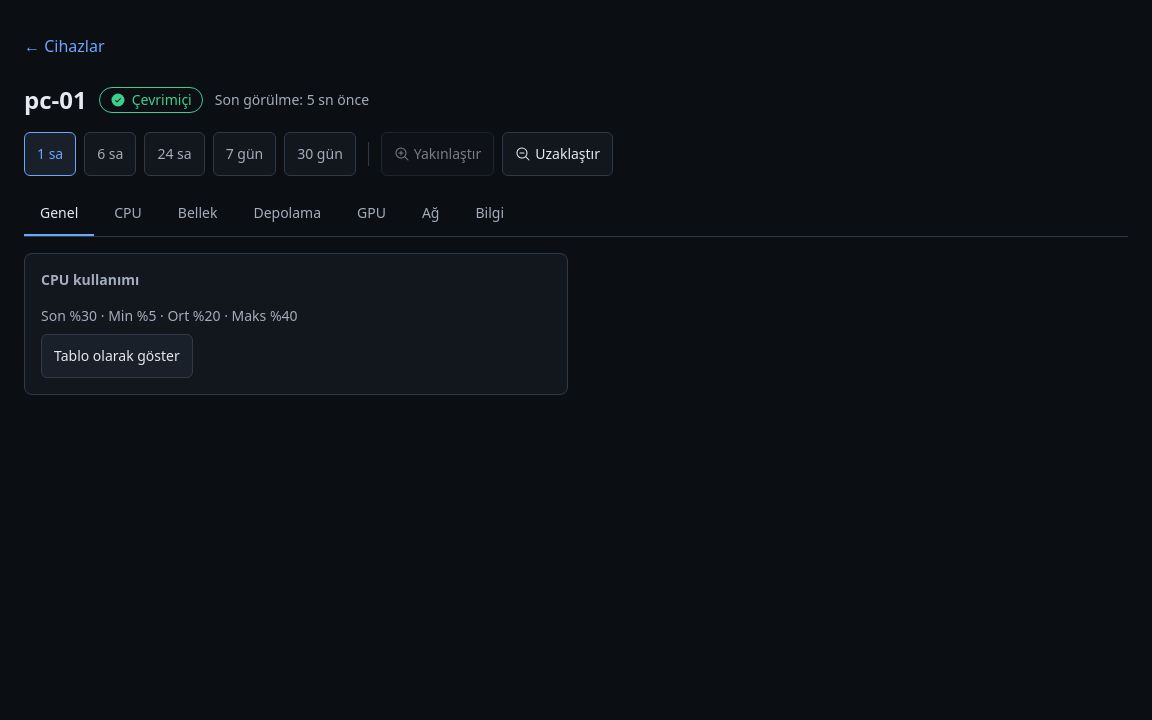
sekmeler ve metrik kesfi › Depolama: her disk icin grafik; Ag: adaptor adi device_info'dan (Wi-Fi), rx/tx ayri
This screenshot has width=1152, height=720.
Expected: the element showing "Genel CPU Bellek Depolama GPU Ağ Bilgi" is shown, 24,192 -> 1128,237
What coordinates should you click on to do the following:
click the tab "Depolama"
I would click on:
 (287, 214)
Its box is 237,192 -> 337,236.
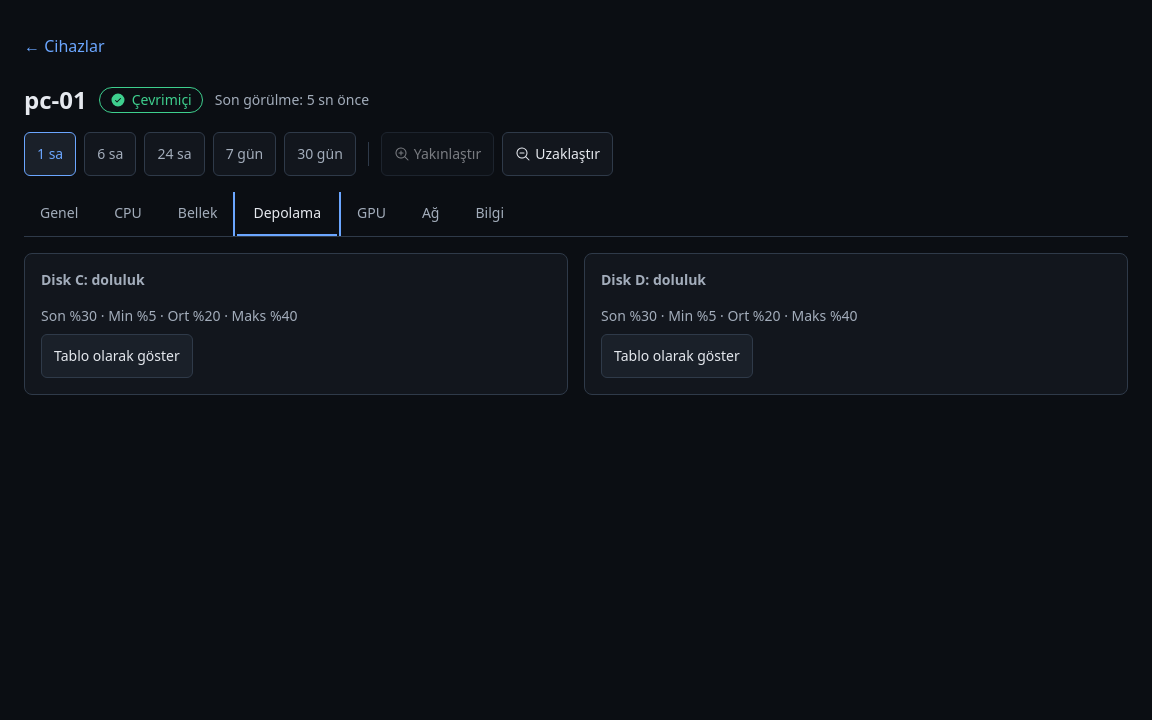
What coordinates should you click on to do the following:
click the tab "Ağ"
I would click on:
 (431, 214)
Its box is 406,192 -> 456,236.
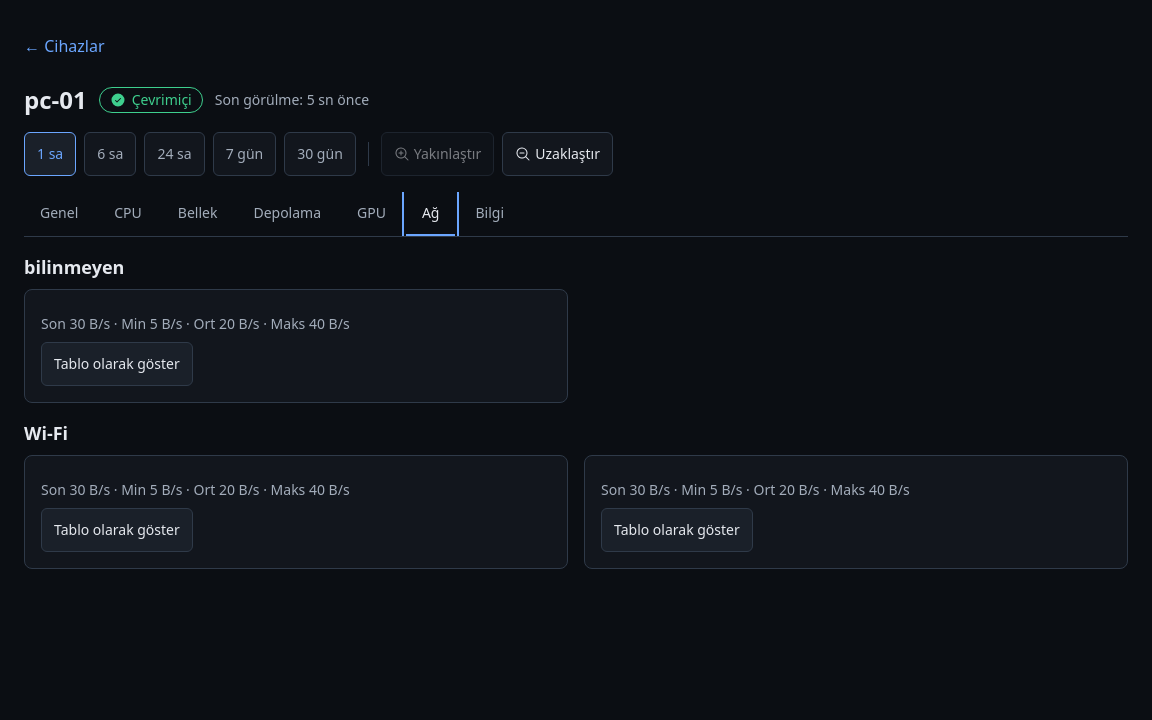
Now the heading "Wi-Fi" is shown, box 24,421 -> 68,445
Now the heading "bilinmeyen" is shown, box 24,255 -> 124,279
